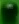black: (0, 0, 19, 24)
